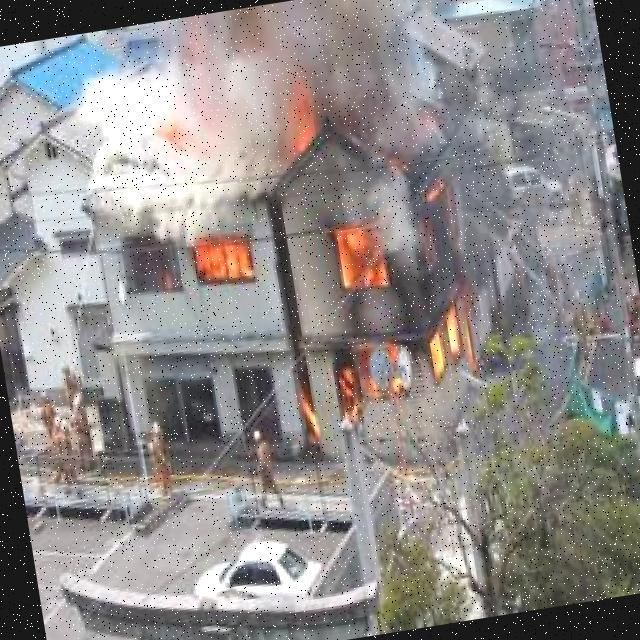Fire: (294, 120, 491, 436), (272, 65, 344, 146), (183, 232, 257, 294)
